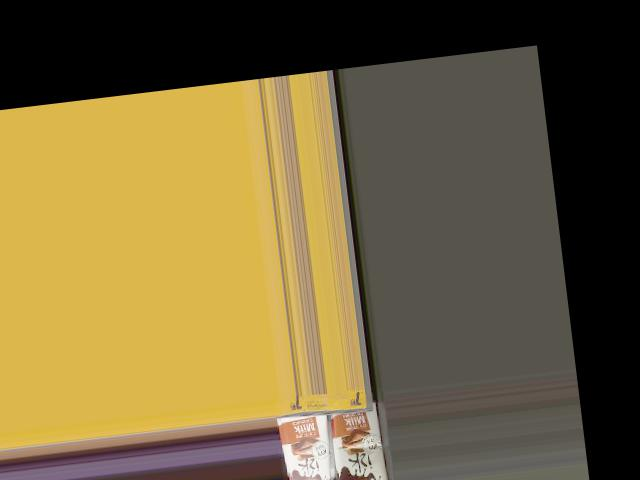chocolate: (271, 403, 334, 480)
